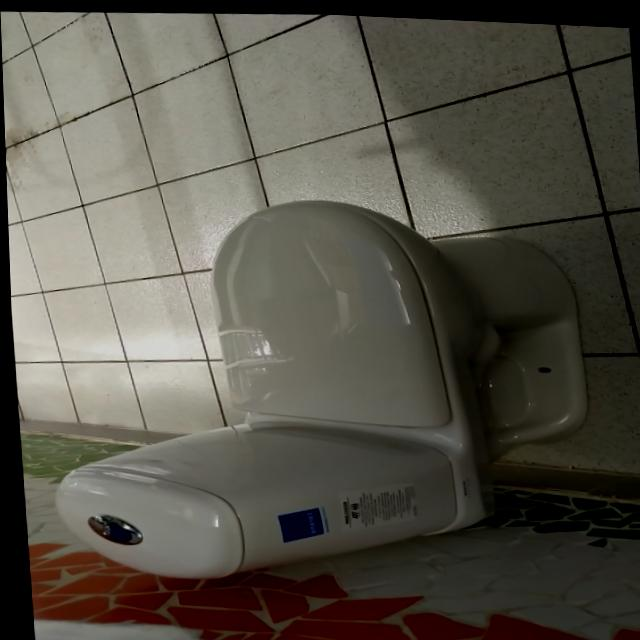toilet: (27, 173, 609, 604)
